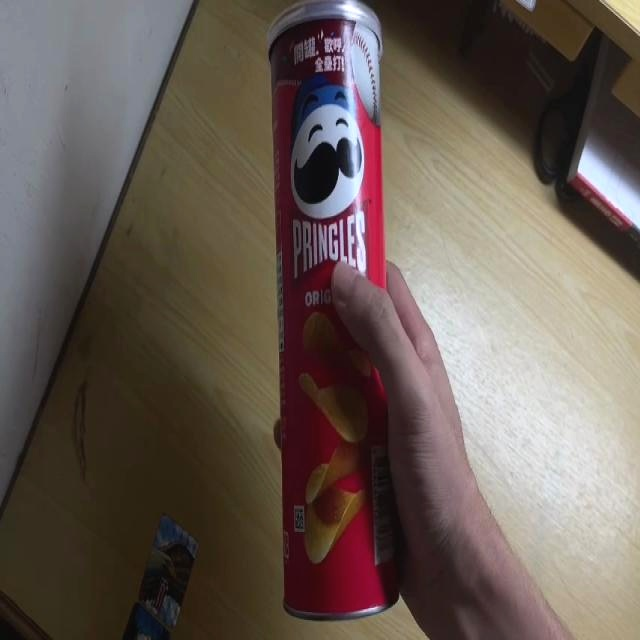Pringles: (266, 0, 402, 623)
